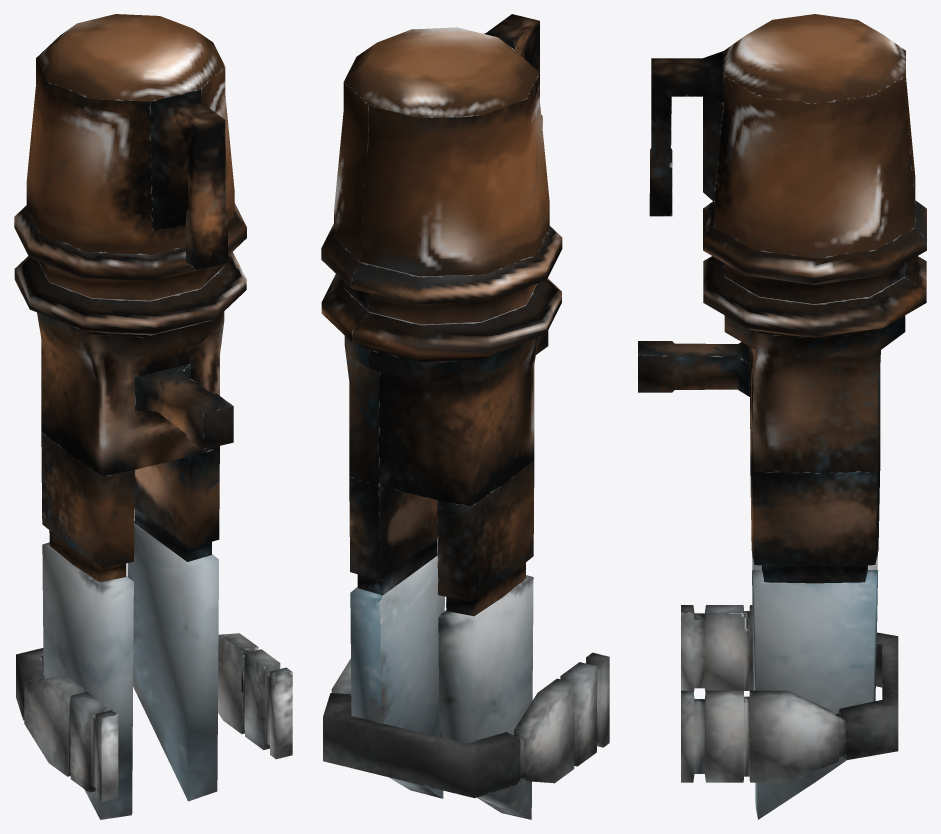
Rendered from TeslaCannon.fbx.
3 views of the same model, side by side, from view 1: azimuth 30°, elevation 25°; view 2: azimuth 150°, elevation 25°; view 3: azimuth 270°, elevation 25° (orthographic). The views are drawn at different scales.
Parts seen in each view (by area): view 1: Tesla Cannon, Tesla Cannon Amplifier; view 2: Tesla Cannon, Tesla Cannon Amplifier; view 3: Tesla Cannon, Tesla Cannon Amplifier.
Boxes of the visible parts, box(x1,y1,x2,y2) form: Tesla Cannon: box(14, 14, 246, 819); Tesla Cannon Amplifier: box(16, 633, 292, 801); Tesla Cannon: box(321, 14, 562, 819); Tesla Cannon Amplifier: box(323, 652, 609, 798); Tesla Cannon: box(638, 14, 926, 819); Tesla Cannon Amplifier: box(681, 605, 898, 782).
Bounding box in the file's own units: 0.6332 × 2.22 × 0.7769.
